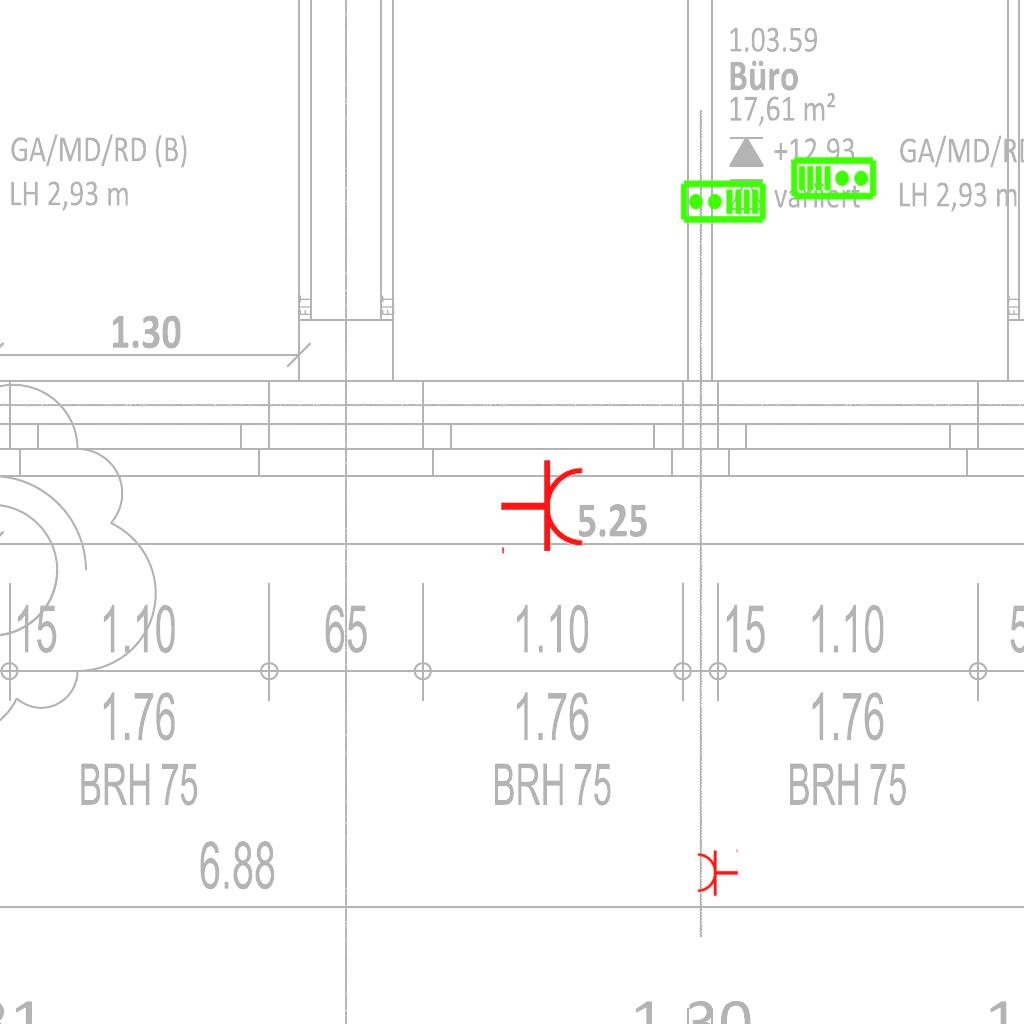Gegensprechanlage_mit_Video: (790, 154, 878, 201), (679, 179, 767, 226)
Schukosteckdose_einfach: (499, 458, 586, 558), (696, 847, 739, 897)
